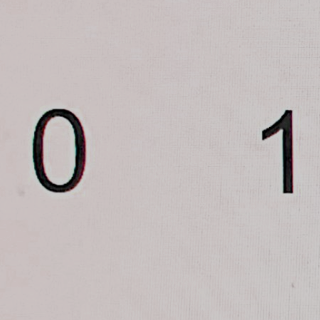one: (260, 106, 300, 197)
zero: (30, 106, 90, 196)
